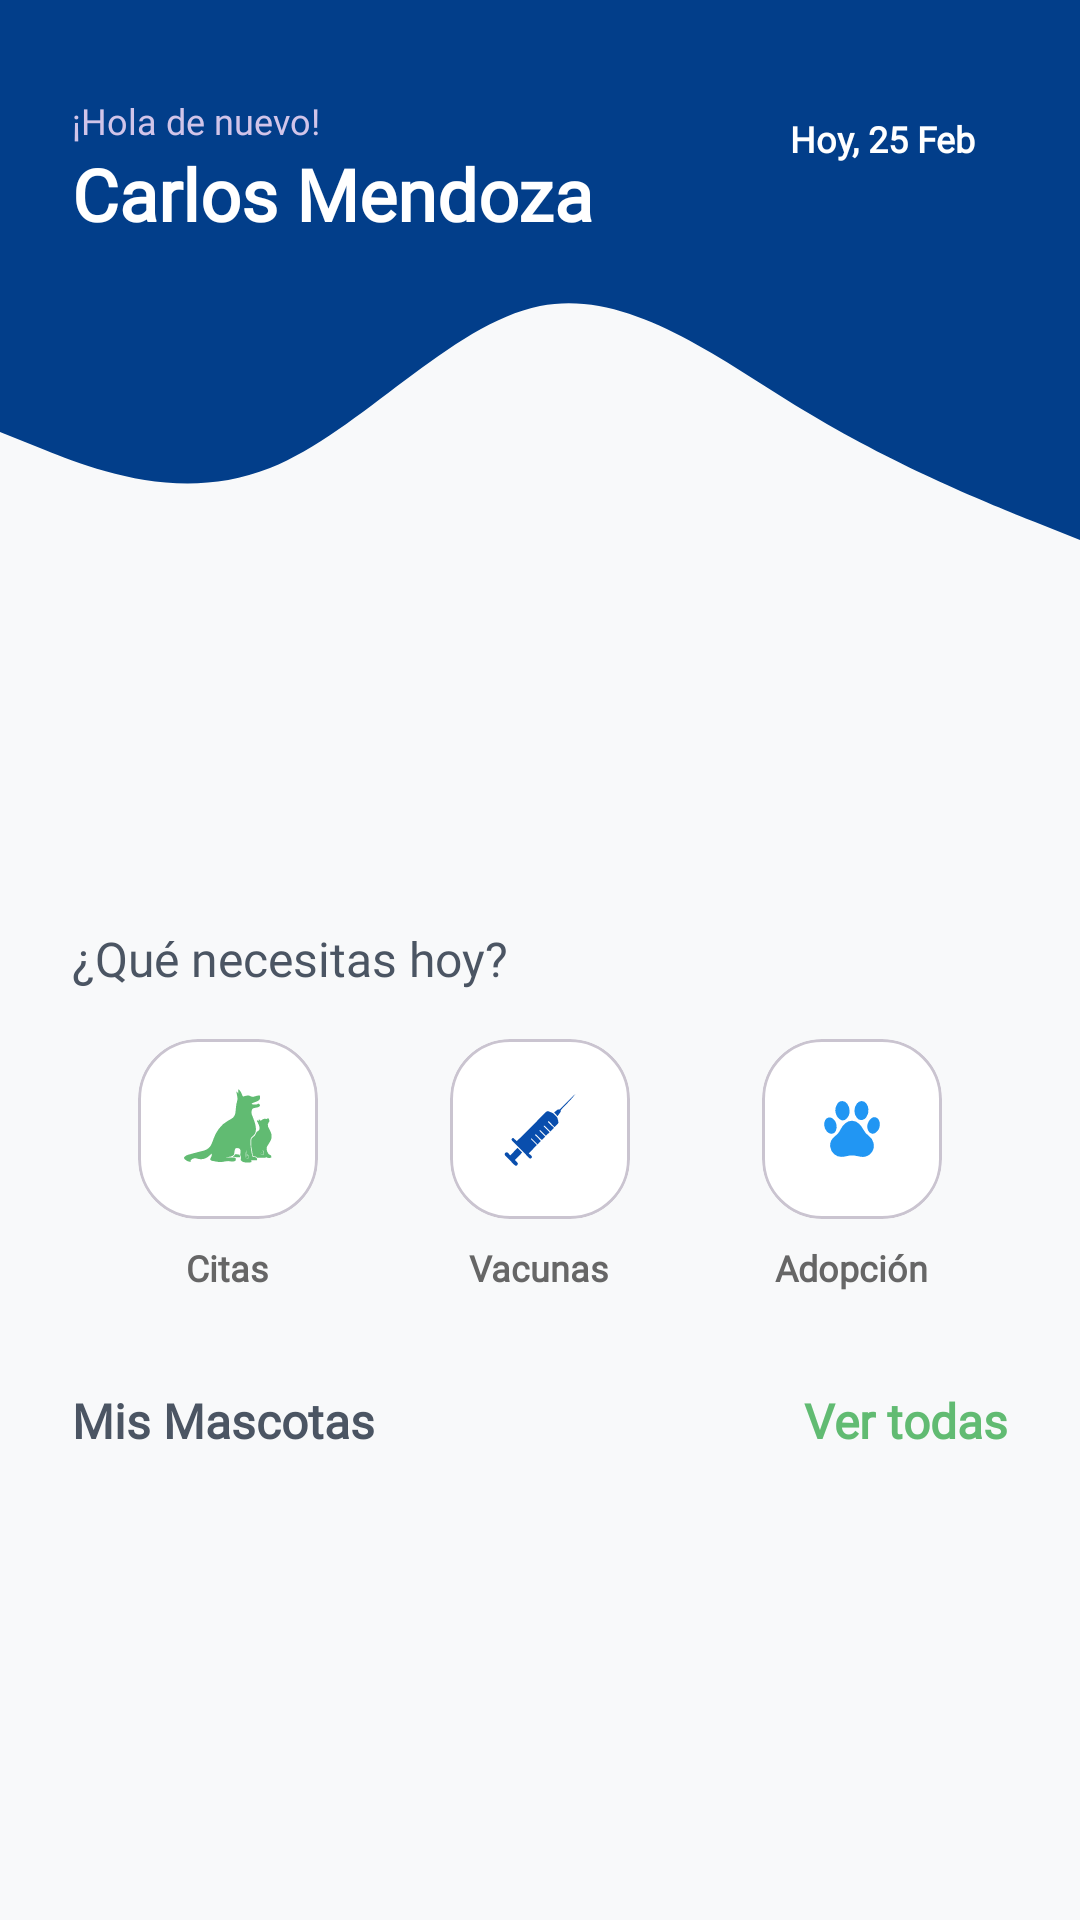

Screen size 1080 × 1920. Icon name, then its center in pixels as [x,y]:
especies: [228,1126]
pet: [852,1129]
vaccine: [539,1130]
